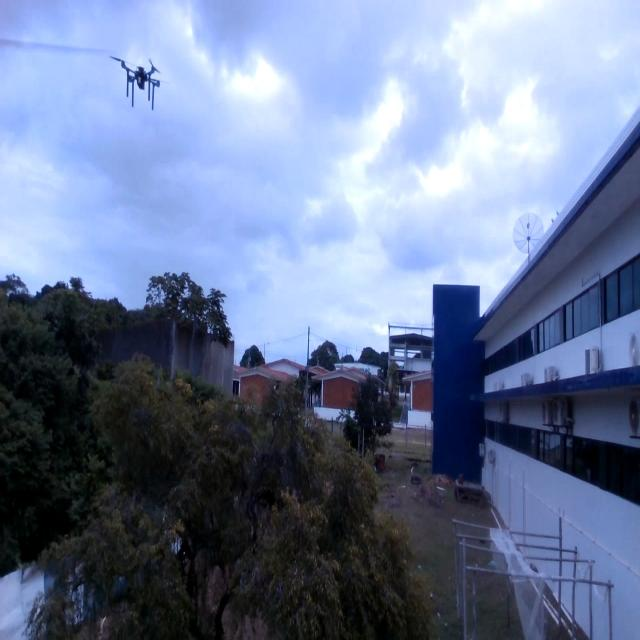-uav-: (101, 35, 169, 132)
